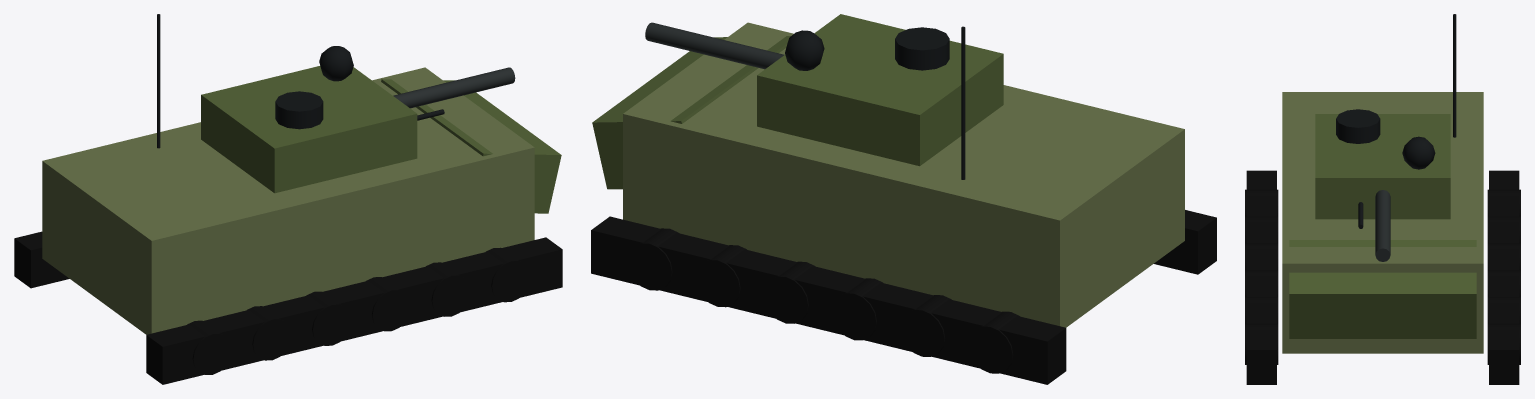
The model's file is m48-patton.glb.
3 renders of one model, left to right at view 1: azimuth 30°, elevation 25°; view 2: azimuth 150°, elevation 25°; view 3: azimuth 270°, elevation 25°, orthographic. The views are drawn at different scales.
Parts seen in each view (by area): view 1: hull, turretBody, trackLeft, frontGlacis, mainGun, trackRight, cupola, roadWheelLeft2, roadWheelLeft3, roadWheelLeft5, roadWheelLeft1, roadWheelLeft6 (+3 smaller); view 2: hull, turretBody, trackRight, frontGlacis, mainGun, trackLeft, cupola, roadWheelRight1, roadWheelRight6, roadWheelRight3, roadWheelRight4, roadWheelRight5 (+3 smaller); view 3: hull, frontGlacis, turretBody, trackLeft, trackRight, cupola, mainGun, searchLight, antenna, roadWheelLeft6, roadWheelRight6, roadWheelLeft1 (+9 smaller).
Part boxes in pixels (bbox=[...]): hull: bbox=[42, 67, 534, 334]; turretBody: bbox=[201, 66, 417, 193]; trackLeft: bbox=[146, 237, 562, 384]; frontGlacis: bbox=[381, 79, 561, 213]; mainGun: bbox=[393, 67, 515, 108]; trackRight: bbox=[14, 231, 69, 288]; cupola: bbox=[275, 91, 323, 129]; roadWheelLeft2: bbox=[247, 306, 291, 360]; roadWheelLeft3: bbox=[306, 291, 351, 345]; roadWheelLeft5: bbox=[426, 262, 470, 316]; roadWheelLeft1: bbox=[187, 320, 232, 374]; roadWheelLeft6: bbox=[486, 247, 530, 302]; hull: bbox=[623, 22, 1184, 327]; turretBody: bbox=[757, 14, 1003, 166]; trackRight: bbox=[591, 216, 1066, 384]; frontGlacis: bbox=[592, 36, 790, 189]; mainGun: bbox=[645, 22, 784, 69]; trackLeft: bbox=[1154, 210, 1216, 274]; cupola: bbox=[895, 27, 949, 70]; roadWheelRight1: bbox=[968, 311, 1019, 373]; roadWheelRight6: bbox=[627, 228, 678, 290]; roadWheelRight3: bbox=[832, 278, 882, 340]; roadWheelRight4: bbox=[763, 261, 815, 323]; roadWheelRight5: bbox=[695, 245, 746, 307]; hull: bbox=[1282, 92, 1483, 353]; frontGlacis: bbox=[1289, 240, 1476, 338]; turretBody: bbox=[1315, 114, 1450, 219]; trackLeft: bbox=[1246, 170, 1276, 384]; trackRight: bbox=[1489, 170, 1519, 384]; cupola: bbox=[1336, 109, 1380, 143]; mainGun: bbox=[1375, 190, 1390, 261]; searchLight: bbox=[1402, 136, 1435, 169]; antenna: bbox=[1453, 14, 1456, 137]; roadWheelLeft6: bbox=[1245, 323, 1278, 364]; roadWheelRight6: bbox=[1487, 323, 1520, 364]; roadWheelLeft1: bbox=[1245, 189, 1278, 216].
Bounding box in the file's own units: 3.25 × 1.93 × 2.
